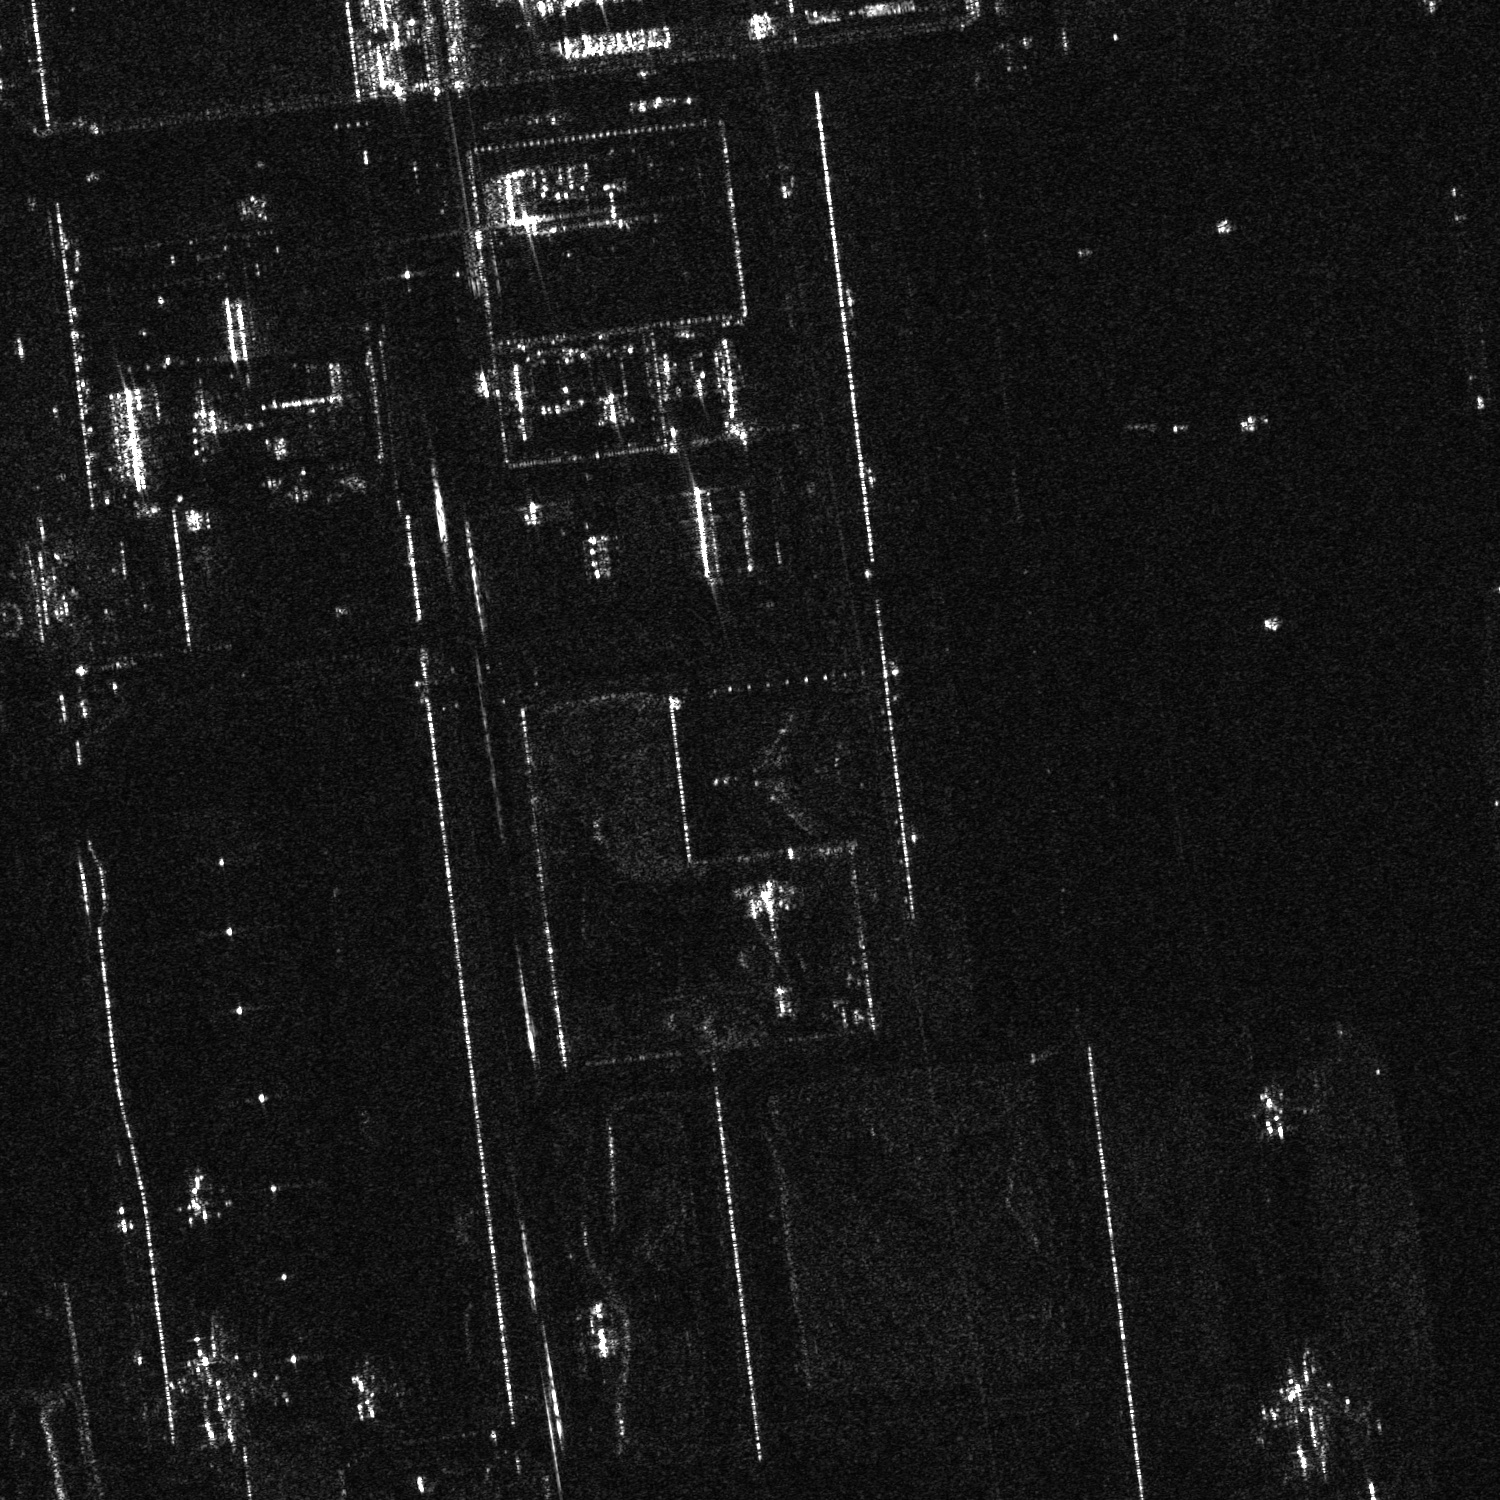A220: (1235, 1076, 1310, 1144), (342, 1374, 386, 1424)
other: (1254, 1350, 1382, 1482), (168, 1330, 261, 1440), (168, 1172, 231, 1229)
